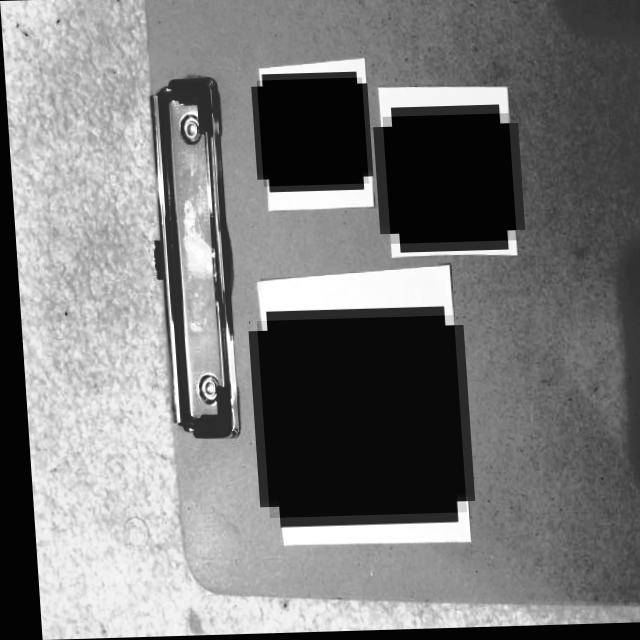qr_code: (252, 317, 459, 519), (381, 115, 513, 245), (256, 79, 366, 187)
